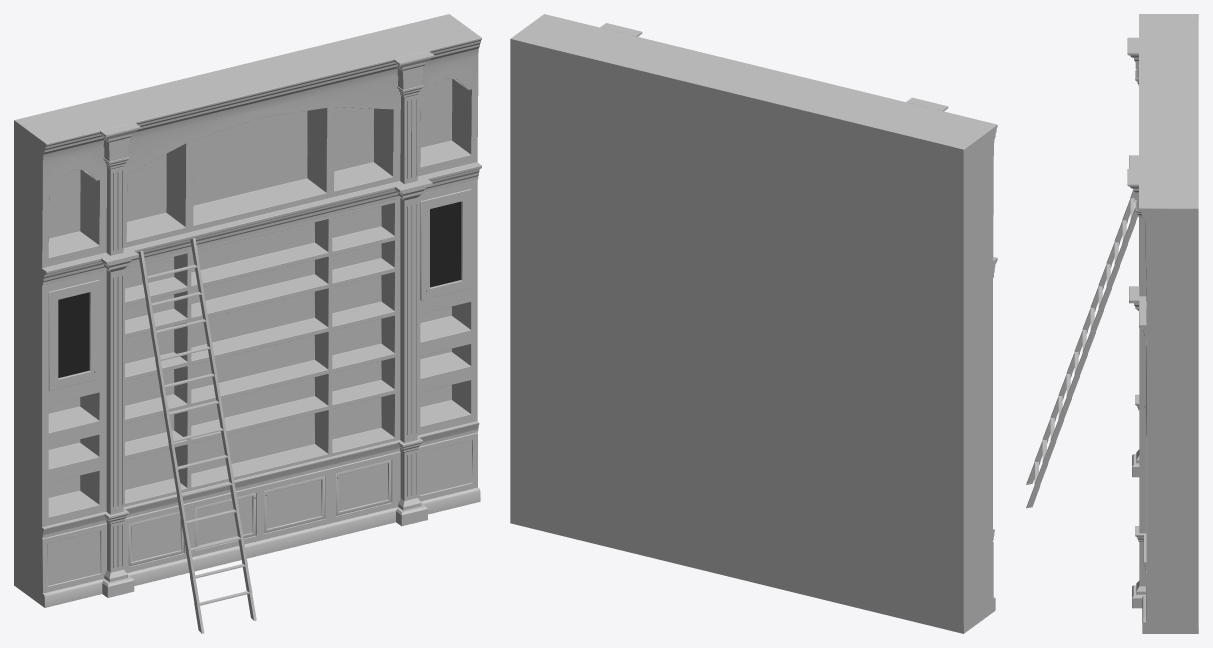
3 renders of one model, left to right at view 1: azimuth 30°, elevation 25°; view 2: azimuth 150°, elevation 25°; view 3: azimuth 270°, elevation 25°, orthographic. The views are drawn at different scales.
Visible parts, largest first — view 1: Bookcase, Pillar, Ladder; view 2: Bookcase; view 3: Bookcase, Ladder, Pillar.
Part boxes in pixels (x1,y1,x2,y2): Bookcase: (14, 14, 481, 607); Pillar: (97, 51, 434, 597); Ladder: (138, 238, 256, 633); Bookcase: (510, 14, 997, 633); Bookcase: (1139, 14, 1198, 633); Ladder: (1026, 189, 1138, 508); Pillar: (1127, 37, 1146, 608).
Size of the model in its own units: 4.73 by 4.85 by 1.77.
